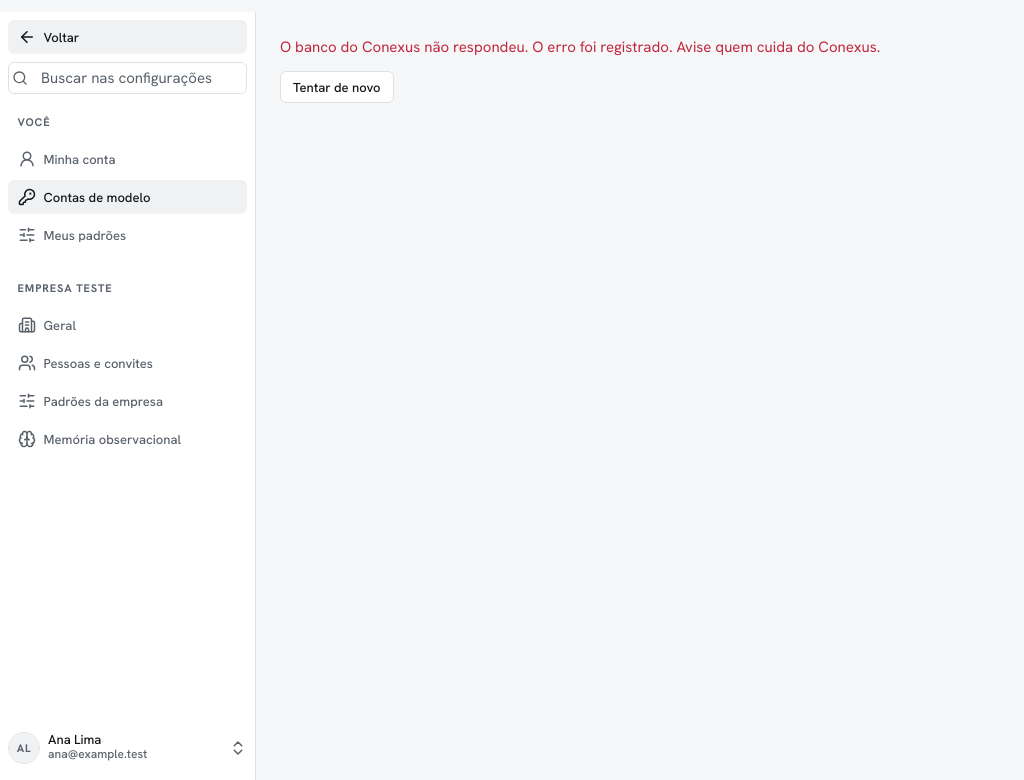
a leitura das contas falha: a frase e Tentar de novo, e o clique lê de novo
Expected: the message shows "banco do Conexus", [280, 37, 880, 57]
Click the button "Tentar de novo": (337,87) [280, 71, 394, 103]
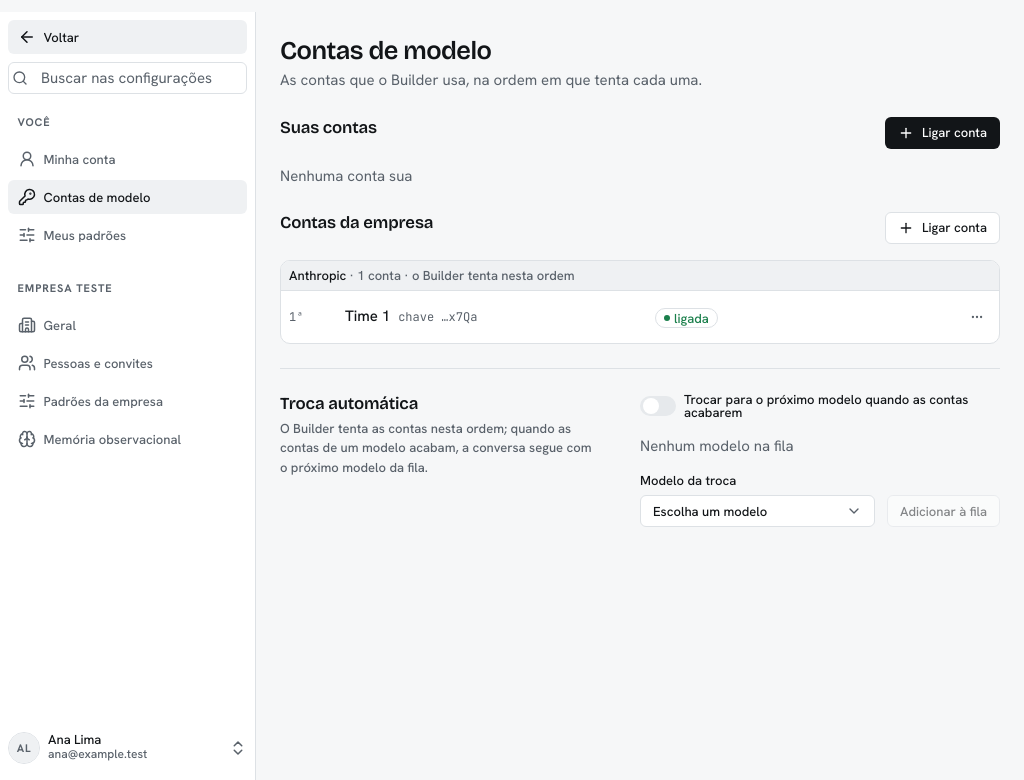
Now the text "Time 1" is shown, box [345, 305, 390, 329]
